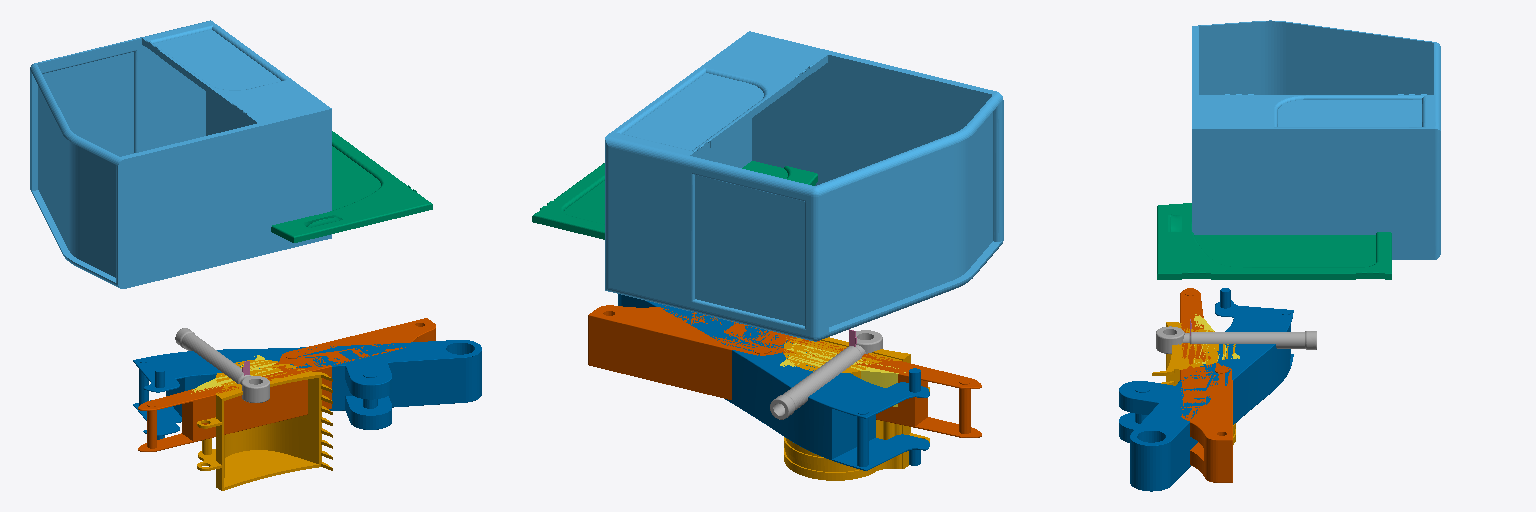
robot.urdf — wheeled_excavator:
<?xml version="1.0" encoding="UTF-8"?>

<robot name="wheeled_excavator">

  <!-- Base link -->
  <link name="base_link">
    <visual>
      <geometry>
        <mesh filename="Weight Keeper v1.stl" scale="1 1 1"/>
      </geometry>
    </visual>
    <collision>
      <geometry>
        <mesh filename="Weight Keeper v1.stl" scale="1 1 1"/>
      </geometry>
    </collision>
  </link>

  <!-- Cabin -->
  <link name="cabin_link">
    <visual>
      <geometry>
        <mesh filename="Cabin 1 v1.stl" scale="1 1 1"/>
      </geometry>
    </visual>
    <collision>
      <geometry>
        <mesh filename="Cabin 1 v1.stl" scale="1 1 1"/>
      </geometry>
    </collision>
  </link>
  
  <!-- Cabin door -->
  <link name="cabin_door_link">
    <visual>
      <geometry>
        <mesh filename="Cabin door 01 v1.stl" scale="1 1 1"/>
      </geometry>
    </visual>
    <collision>
      <geometry>
        <mesh filename="Cabin door 01 v1.stl" scale="1 1 1"/>
      </geometry>
    </collision>
  </link>

  <!-- Front support -->
  <link name="front_support_link">
    <visual>
      <geometry>
        <mesh filename="Front support  2 v1.stl" scale="1 1 1"/>
      </geometry>
    </visual>
    <collision>
      <geometry>
        <mesh filename="Front support  2 v1.stl" scale="1 1 1"/>
      </geometry>
    </collision>
  </link>

  <!-- Arm Part 1 -->
  <link name="hand_1_link">
    <visual>
      <geometry>
        <mesh filename="Hand 1 v1.stl" scale="1 1 1"/>
      </geometry>
    </visual>
    <collision>
      <geometry>
        <mesh filename="Hand 1 v1.stl" scale="1 1 1"/>
      </geometry>
    </collision>
  </link>

  <!-- Arm Part 2 -->
  <link name="hand_2_link">
    <visual>
      <geometry>
        <mesh filename="hand 2 v1.stl" scale="1 1 1"/>
      </geometry>
    </visual>
    <collision>
      <geometry>
        <mesh filename="hand 2 v1.stl" scale="1 1 1"/>
      </geometry>
    </collision>
  </link>

  <!-- Hinge -->
  <link name="hinge_2_link">
    <visual>
      <geometry>
        <mesh filename="Hinge 2 v1.stl" scale="1 1 1"/>
      </geometry>
    </visual>
    <collision>
      <geometry>
        <mesh filename="Hinge 2 v1.stl" scale="1 1 1"/>
      </geometry>
    </collision>
  </link>

  <!-- Part5 -->
  <link name="part5_link">
    <visual>
      <geometry>
        <mesh filename="Part5 v1.stl" scale="1 1 1"/>
      </geometry>
    </visual>
    <collision>
      <geometry>
        <mesh filename="Part5 v1.stl" scale="1 1 1"/>
      </geometry>
    </collision>
  </link>

  <!-- Joints definition -->
  <joint name="cabin_to_base" type="fixed">
    <parent link="base_link"/>
    <child link="cabin_link"/>
  </joint>

  <joint name="door_to_cabin" type="revolute">
    <parent link="cabin_link"/>
    <child link="cabin_door_link"/>
    <origin xyz="0 0 0" rpy="0 0 0"/>
    <axis xyz="0 0 1"/>
  </joint>
  
  <joint name="front_support_to_base" type="fixed">
    <parent link="base_link"/>
    <child link="front_support_link"/>
  </joint>

  <joint name="hand_1_to_front_support" type="revolute">
    <parent link="front_support_link"/>
    <child link="hand_1_link"/>
    <origin xyz="0 0 0" rpy="0 0 0"/>
    <axis xyz="0 1 0"/>
  </joint>

  <joint name="hand_2_to_hand_1" type="revolute">
    <parent link="hand_1_link"/>
    <child link="hand_2_link"/>
    <origin xyz="0 0 0" rpy="0 0 0"/>
    <axis xyz="0 1 0"/>
  </joint>

  <joint name="hinge_to_hand_2" type="revolute">
    <parent link="hand_2_link"/>
    <child link="hinge_2_link"/>
    <origin xyz="0 0 0" rpy="0 0 0"/>
    <axis xyz="0 1 0"/>
  </joint>

  <joint name="part5_to_hinge" type="revolute">
    <parent link="hinge_2_link"/>
    <child link="part5_link"/>
    <origin xyz="0 0 0" rpy="0 0 0"/>
    <axis xyz="0 1 0"/>
  </joint>

</robot>

--- What the picture shows (computed from the rendered views, not written in the file) ---
Views: 3 orthographic renders of the robot side by side, from view 1: azimuth 30°, elevation 25°; view 2: azimuth 150°, elevation 25°; view 3: azimuth 270°, elevation 25°.
Robot: wheeled_excavator — 8 links, 7 joints (5 revolute, 2 fixed); root link base_link; default pose: every joint at zero.
Links seen in each view (by area): view 1: cabin_link, hand_1_link, hand_2_link, base_link, cabin_door_link, part5_link; view 2: cabin_link, hand_2_link, hand_1_link, base_link, cabin_door_link, part5_link, front_support_link; view 3: cabin_link, hand_1_link, cabin_door_link, hand_2_link, part5_link, base_link.
Link boxes in pixels (left/top/right/bottom): cabin_link: left=30, top=20, right=331, bottom=288; hand_1_link: left=133, top=340, right=481, bottom=439; hand_2_link: left=138, top=318, right=435, bottom=451; base_link: left=197, top=360, right=332, bottom=490; cabin_door_link: left=271, top=131, right=432, bottom=242; part5_link: left=175, top=328, right=269, bottom=402; cabin_link: left=605, top=31, right=1003, bottom=341; hand_2_link: left=588, top=305, right=981, bottom=437; hand_1_link: left=618, top=294, right=929, bottom=470; base_link: left=784, top=336, right=929, bottom=480; cabin_door_link: left=532, top=161, right=817, bottom=239; part5_link: left=770, top=330, right=882, bottom=419; front_support_link: left=780, top=343, right=905, bottom=406; cabin_link: left=1192, top=20, right=1440, bottom=259; hand_1_link: left=1119, top=288, right=1293, bottom=491; cabin_door_link: left=1157, top=203, right=1391, bottom=279; hand_2_link: left=1180, top=288, right=1232, bottom=482; part5_link: left=1156, top=326, right=1316, bottom=353; base_link: left=1152, top=322, right=1235, bottom=444.
Bounding box of the posed robot: 2842 × 2233 × 2654 m (x, y, z).
Meshes: 8 distinct files referenced, 8 mesh visuals loaded (8 binary STL).